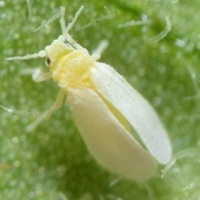insect: (7, 7, 170, 179)
